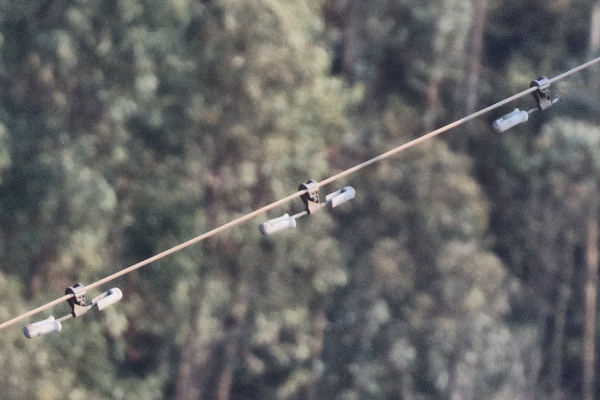damper: (253, 177, 357, 238), (21, 279, 123, 340)
damper_defect: (489, 74, 566, 137)
